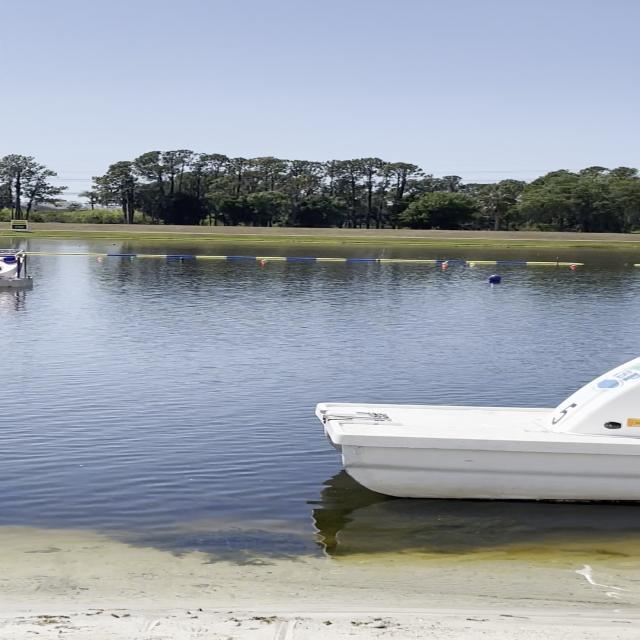buoy: (489, 274, 502, 282)
